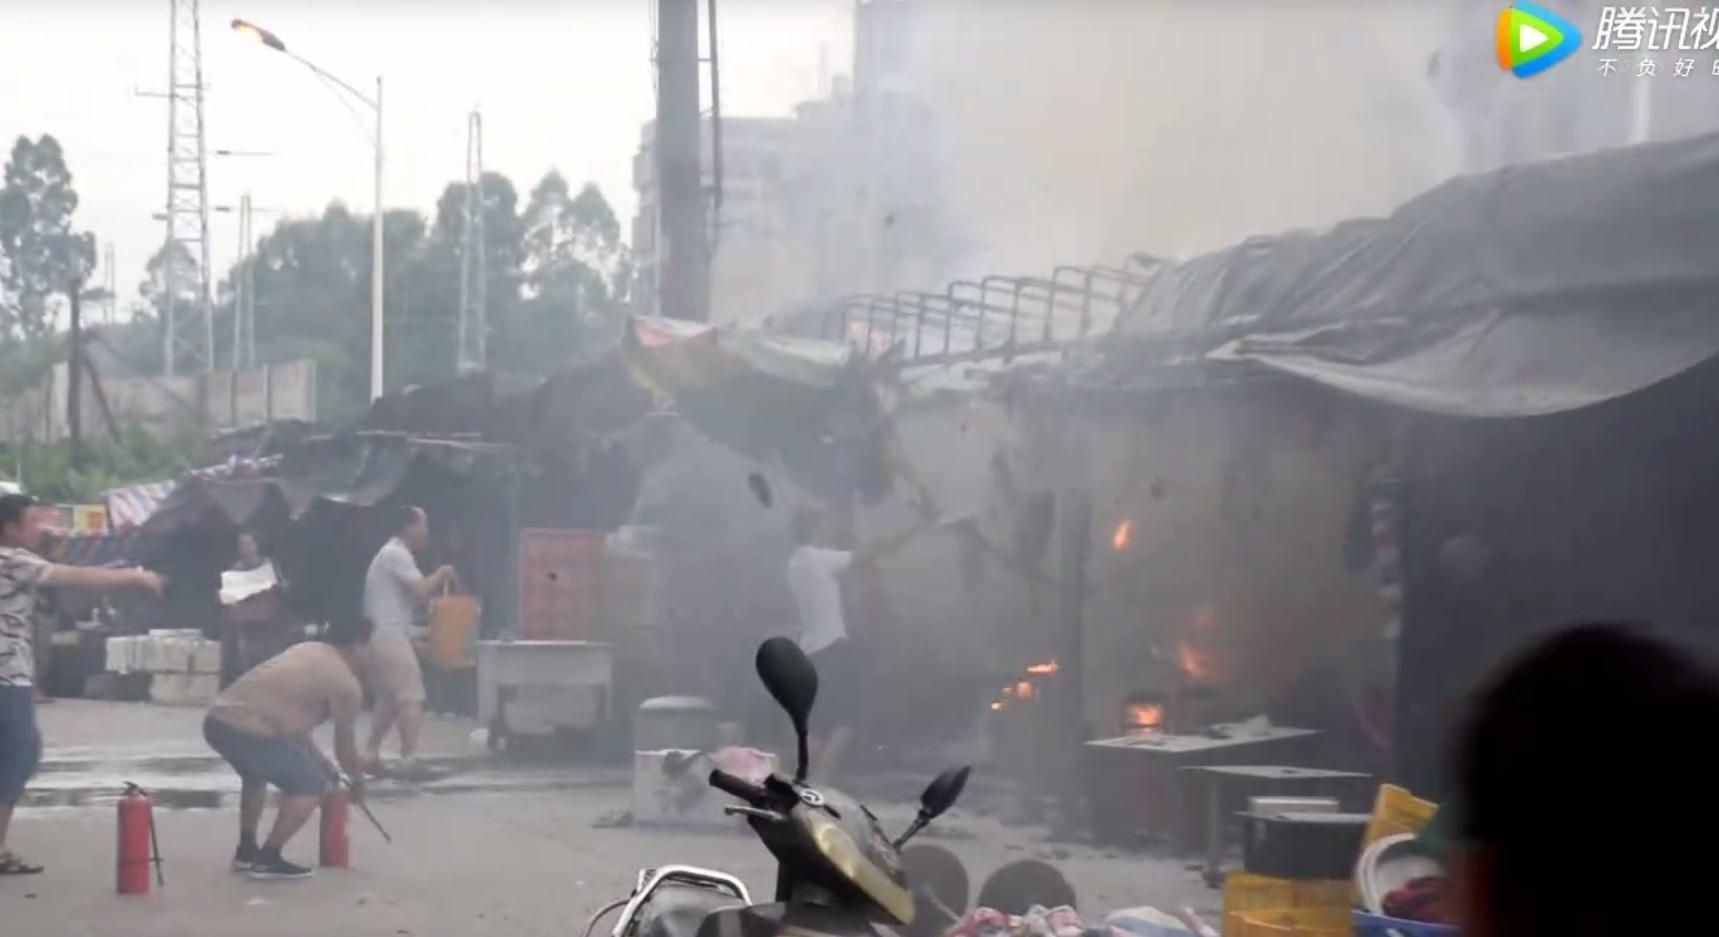fire: (991, 655, 1056, 709), (1178, 639, 1211, 675), (1129, 698, 1162, 727), (1108, 516, 1132, 546)
